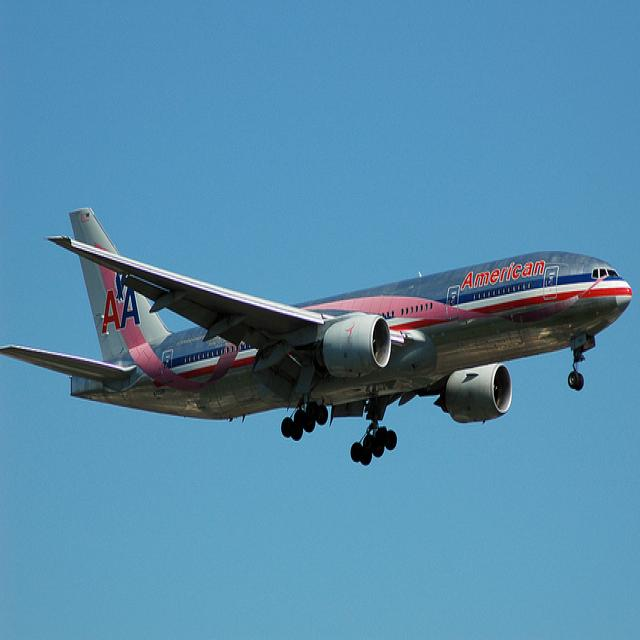airplane: (0, 202, 633, 466)
